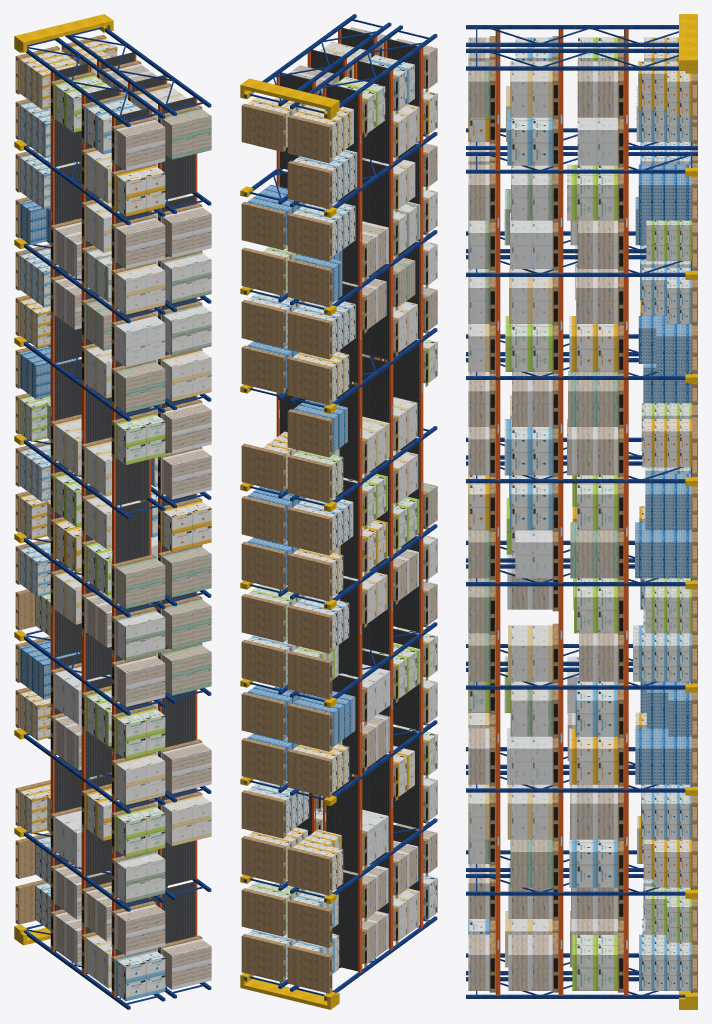
The model's file is racks_e4_s.gltf.
3 renders of one model, left to right at view 1: azimuth 30°, elevation 25°; view 2: azimuth 150°, elevation 25°; view 3: azimuth 270°, elevation 25°, orthographic. The views are drawn at different scales.
Parts seen in each view (by area): view 1: racks_e4_s; view 2: racks_e4_s; view 3: racks_e4_s.
Boxes of the visible parts, <box> form: racks_e4_s: <box>14,14,211,1009</box>; racks_e4_s: <box>240,14,437,1009</box>; racks_e4_s: <box>466,14,697,1009</box>.
Bounding box in the file's own units: 2.6 × 24.86 × 5.5.
18 materials, 18 textured.
